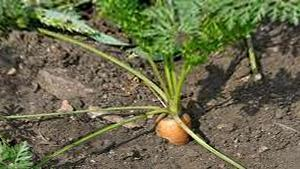carrot: (151, 96, 194, 142)
